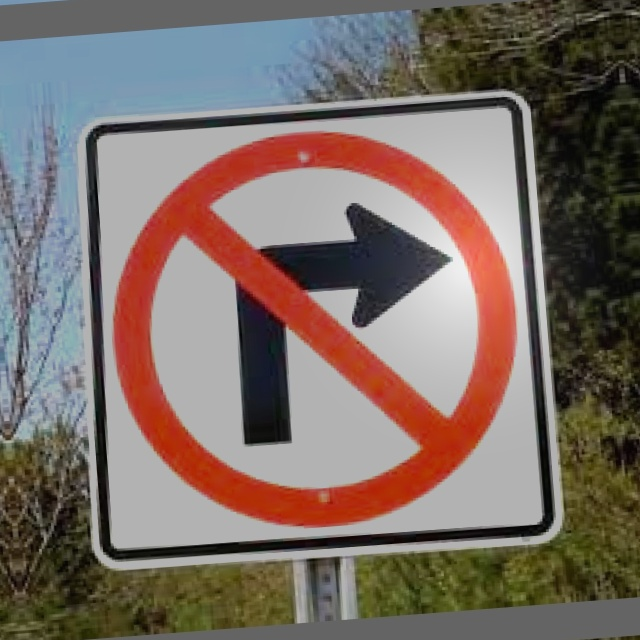Right_Turn_Prohibited: (94, 94, 539, 542)
